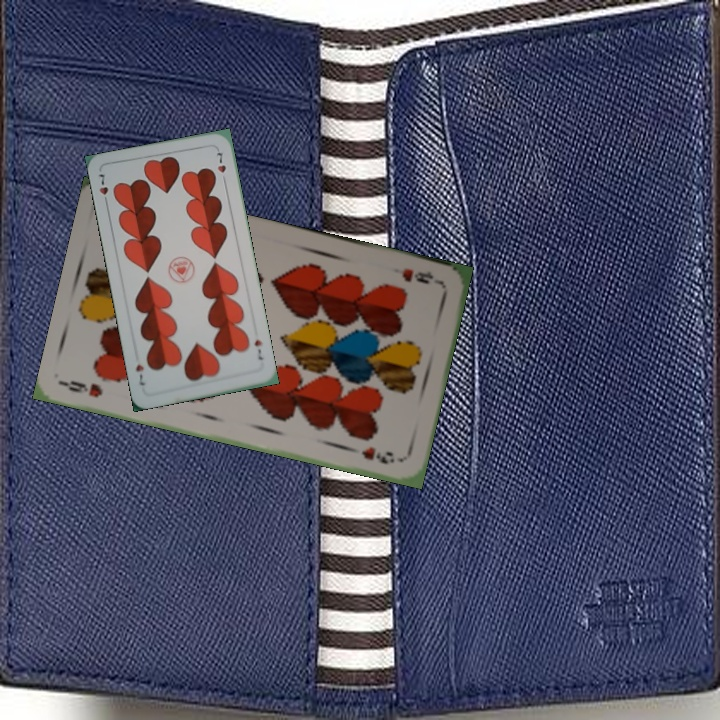H7: (94, 170, 111, 208), (250, 336, 265, 362)
H9: (61, 376, 105, 400), (398, 264, 443, 287)
